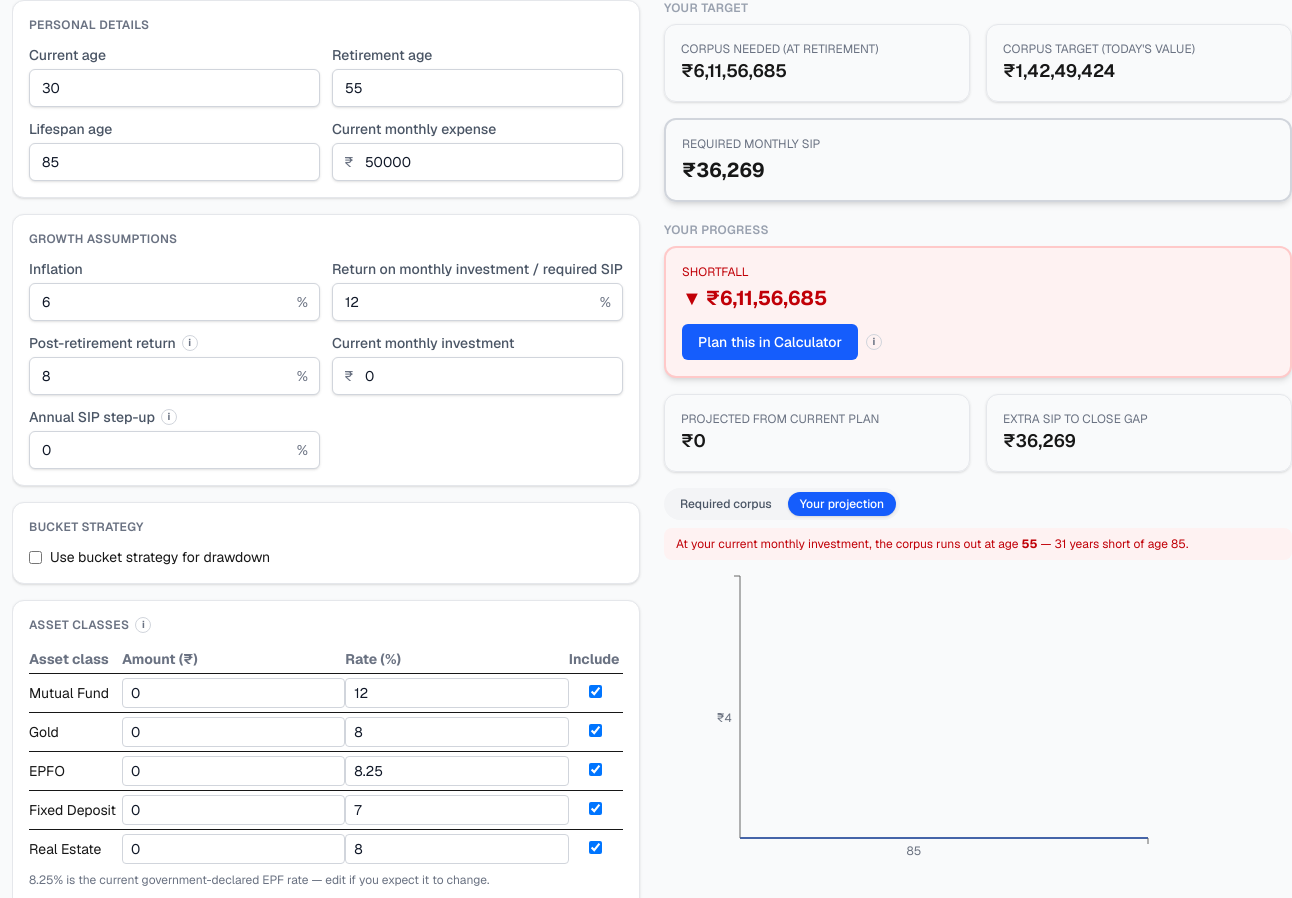
Test: RetirementTab drawdown views › switches the year-by-year table between the two corpora
The width and height of the screenshot is (1292, 898).
Click the button "Required corpus": (726, 504) x1=668 y1=492 x2=784 y2=516
(page scrolled)
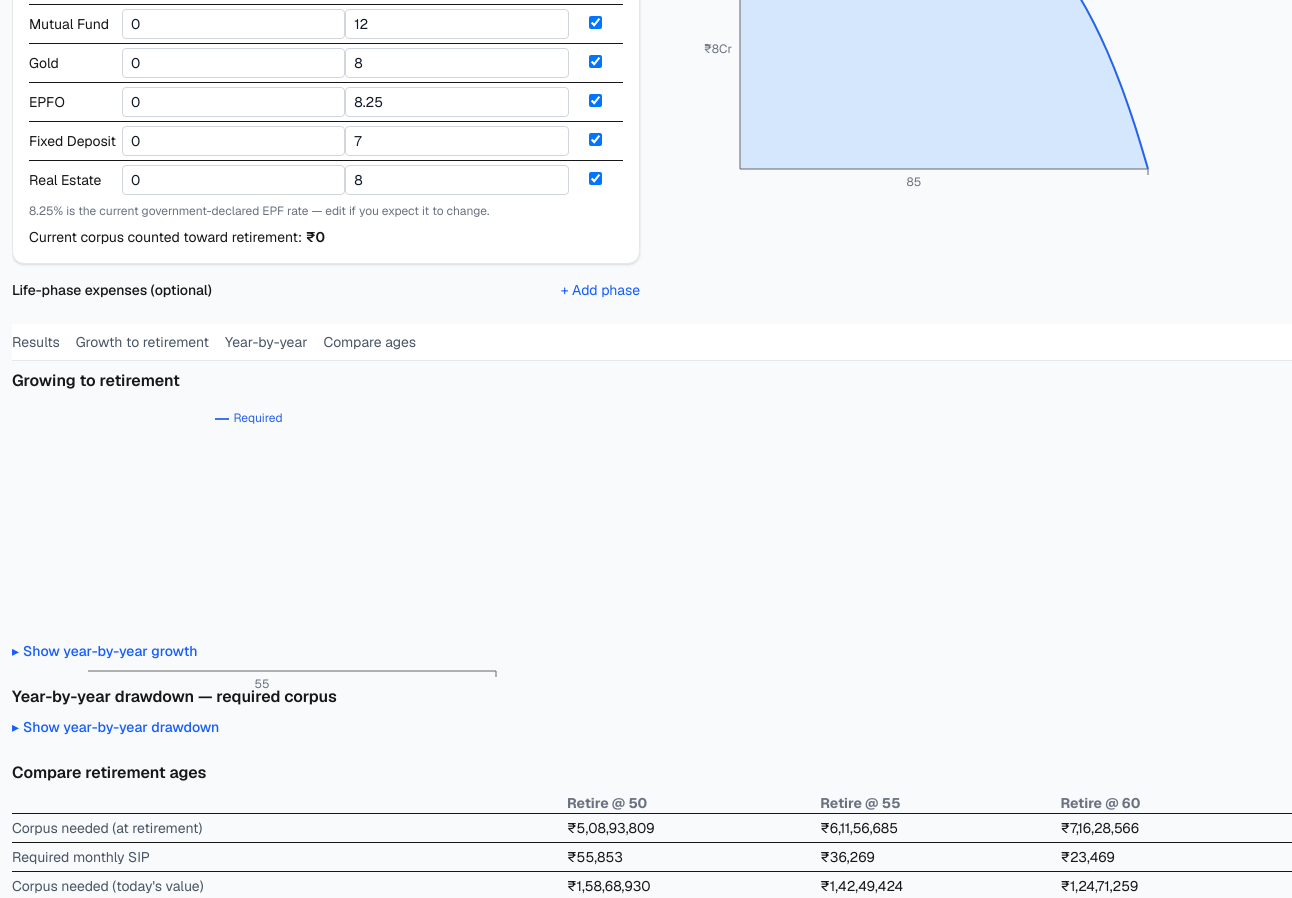
Expected: the heading "Year-by-year drawdown — required corpus" is shown, x1=12 y1=686 x2=337 y2=707
